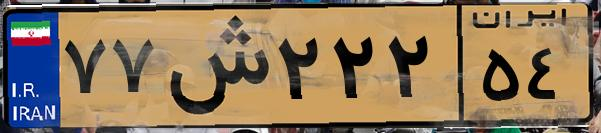2: (270, 28, 330, 110), (385, 28, 445, 110), (330, 28, 385, 110)
4: (525, 38, 570, 115)
5: (475, 38, 525, 113)
7: (57, 26, 110, 100), (110, 28, 158, 98)
ش: (158, 12, 270, 120)
